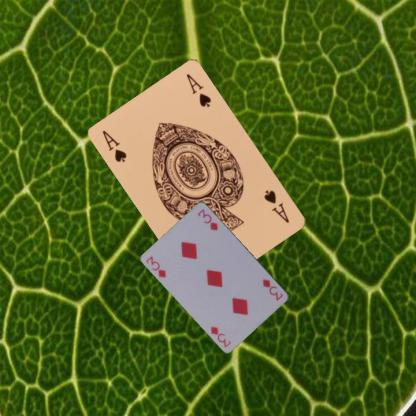3d: (143, 253, 168, 279), (260, 276, 284, 301)
As: (262, 187, 291, 224), (100, 127, 128, 164)
